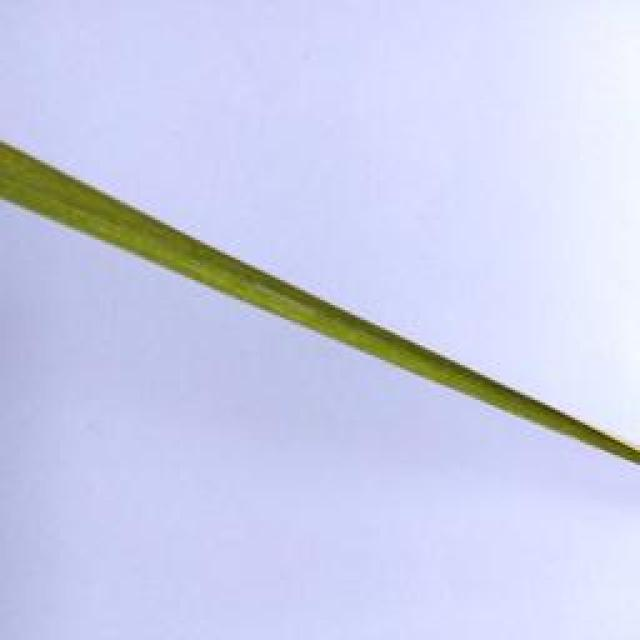Healthy-Plant: (1, 140, 64, 228), (64, 169, 126, 253), (126, 200, 187, 281), (344, 308, 408, 372), (187, 231, 241, 304), (464, 362, 528, 422), (290, 278, 344, 346), (410, 335, 464, 396), (242, 256, 290, 324), (577, 417, 640, 467), (528, 393, 576, 441)
